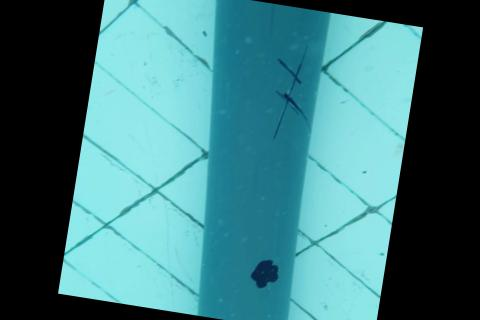kebocoran: (246, 254, 283, 293)
keretakan: (261, 37, 322, 144)
